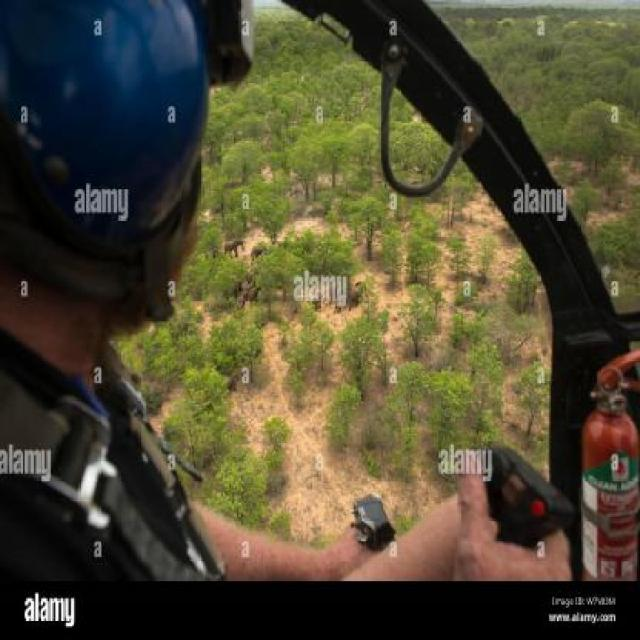elephant: (352, 279, 370, 307), (224, 366, 238, 399), (223, 236, 243, 255), (250, 240, 268, 258), (204, 242, 218, 263), (231, 276, 244, 295), (335, 299, 350, 315), (313, 288, 322, 312), (248, 287, 262, 302), (244, 266, 258, 280), (243, 281, 259, 293), (235, 296, 247, 312)
